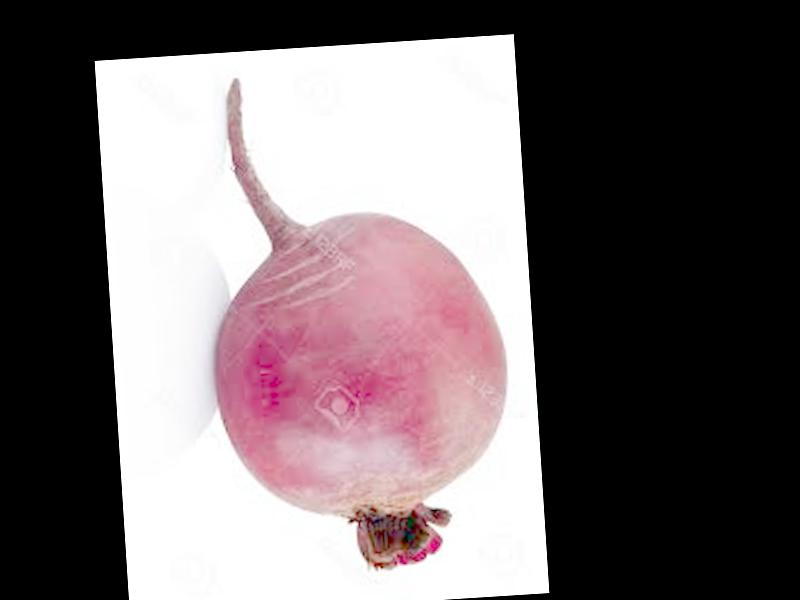Beet: (196, 62, 516, 574)
